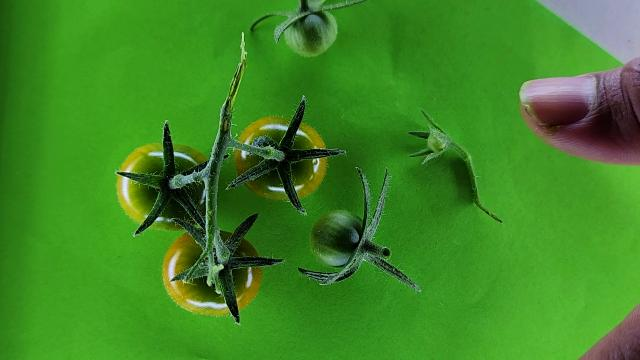Fruit Bud: (428, 132, 446, 153)
Fruit Maturation: (309, 210, 364, 268), (283, 9, 338, 57)
Fully Grown: (161, 228, 263, 317), (115, 143, 211, 232), (234, 117, 327, 202)
